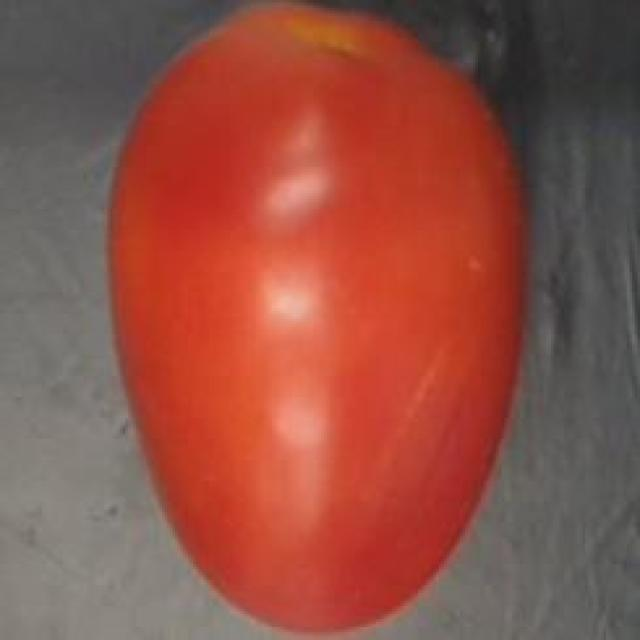ripe tomato: (84, 0, 538, 640)
